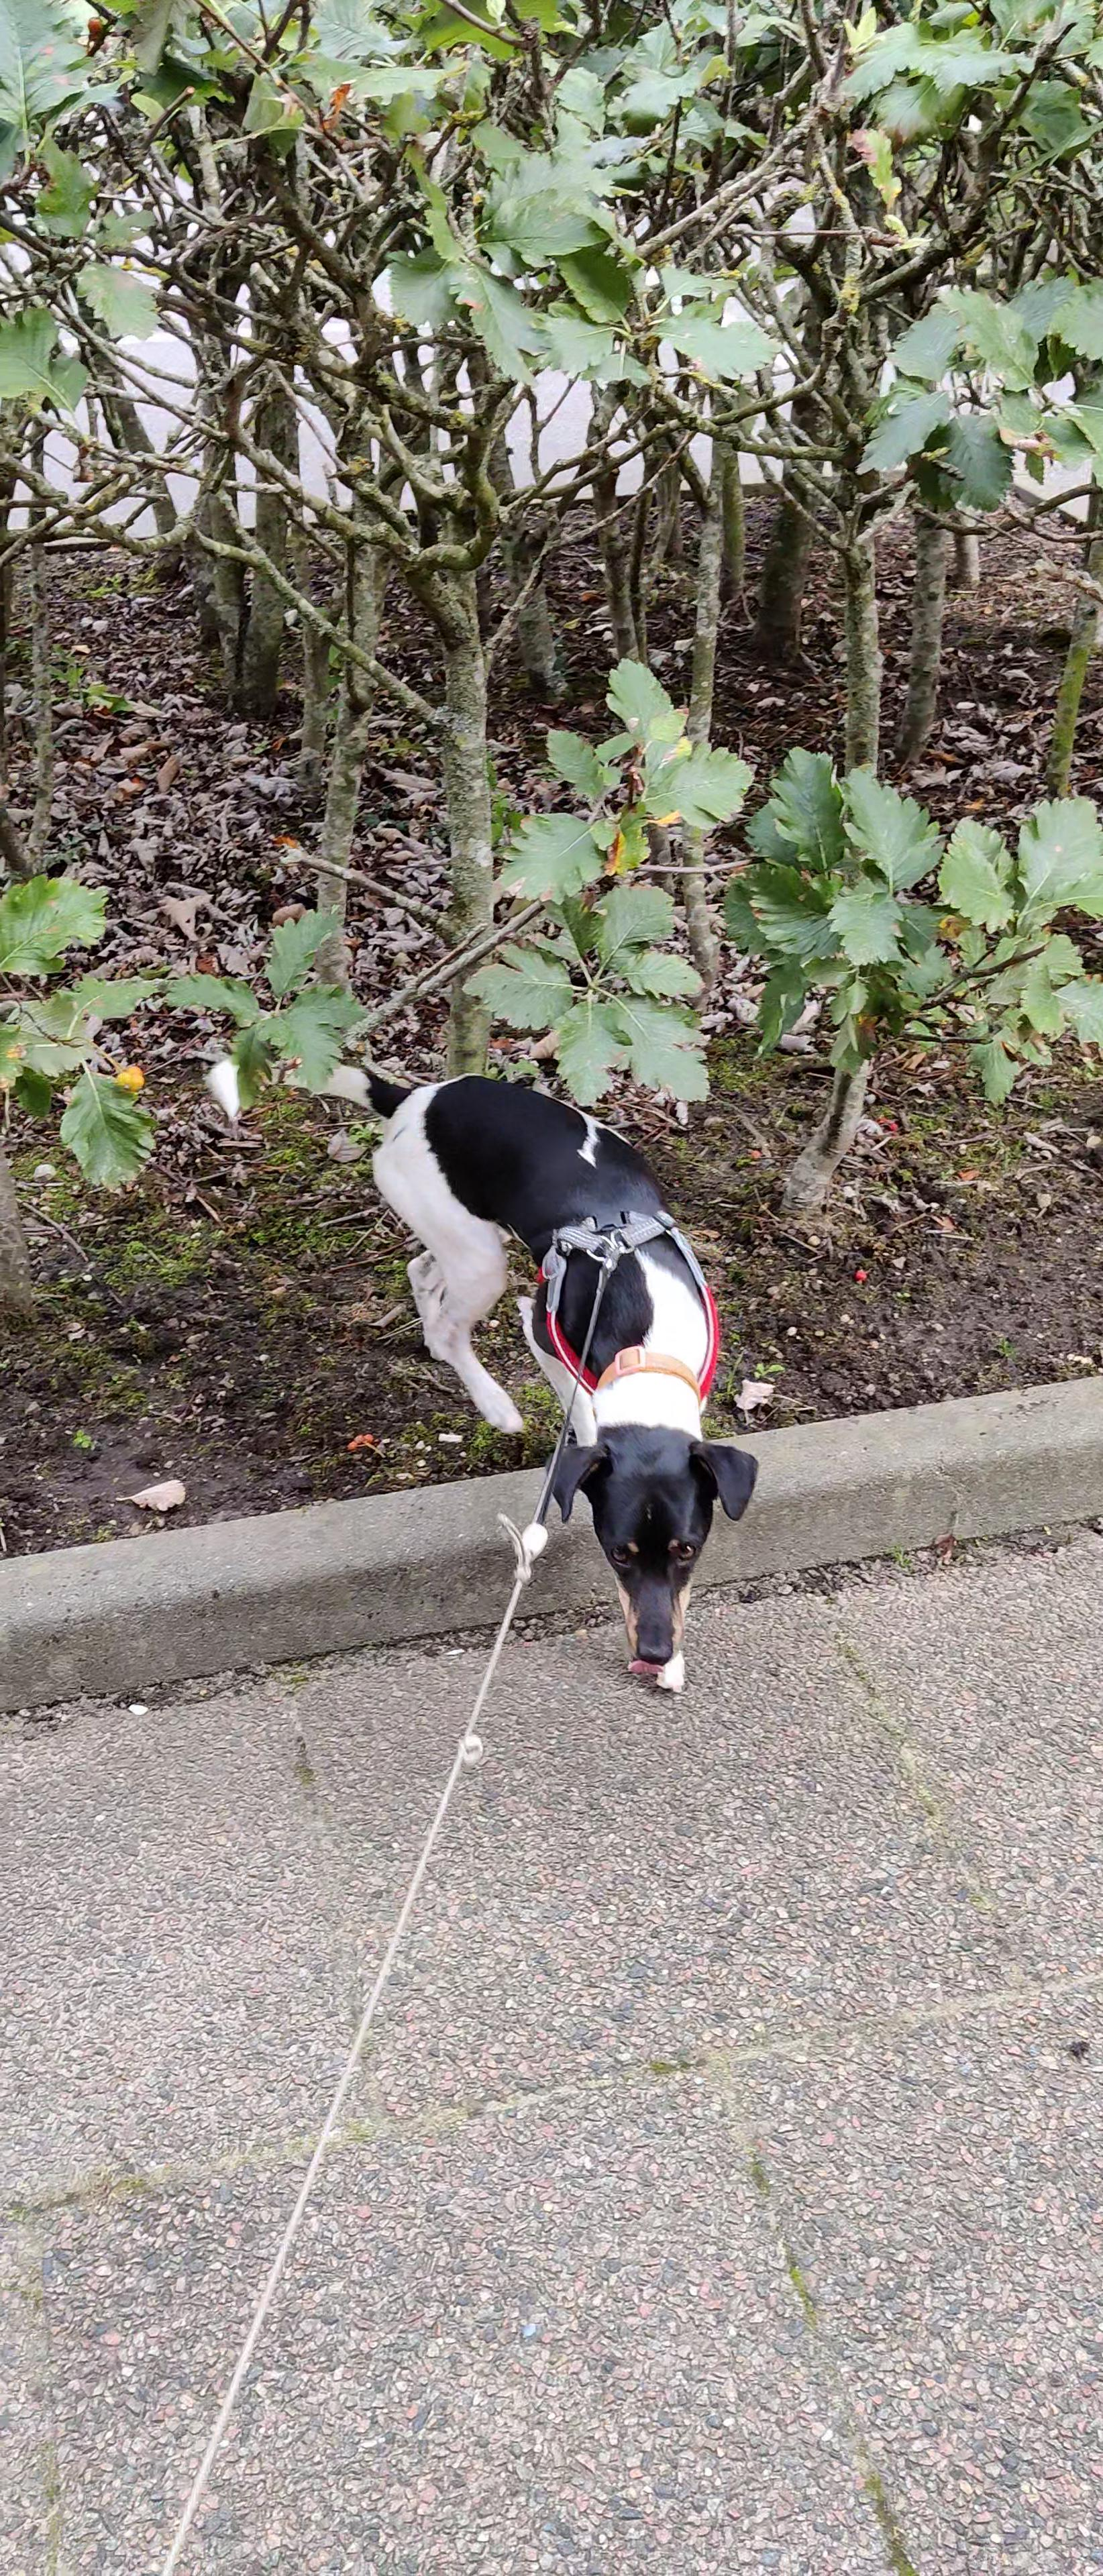Dog: (201, 1023, 766, 1704)
